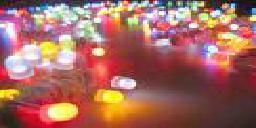LED: (35, 98, 81, 122), (88, 88, 129, 106), (8, 54, 33, 81)
